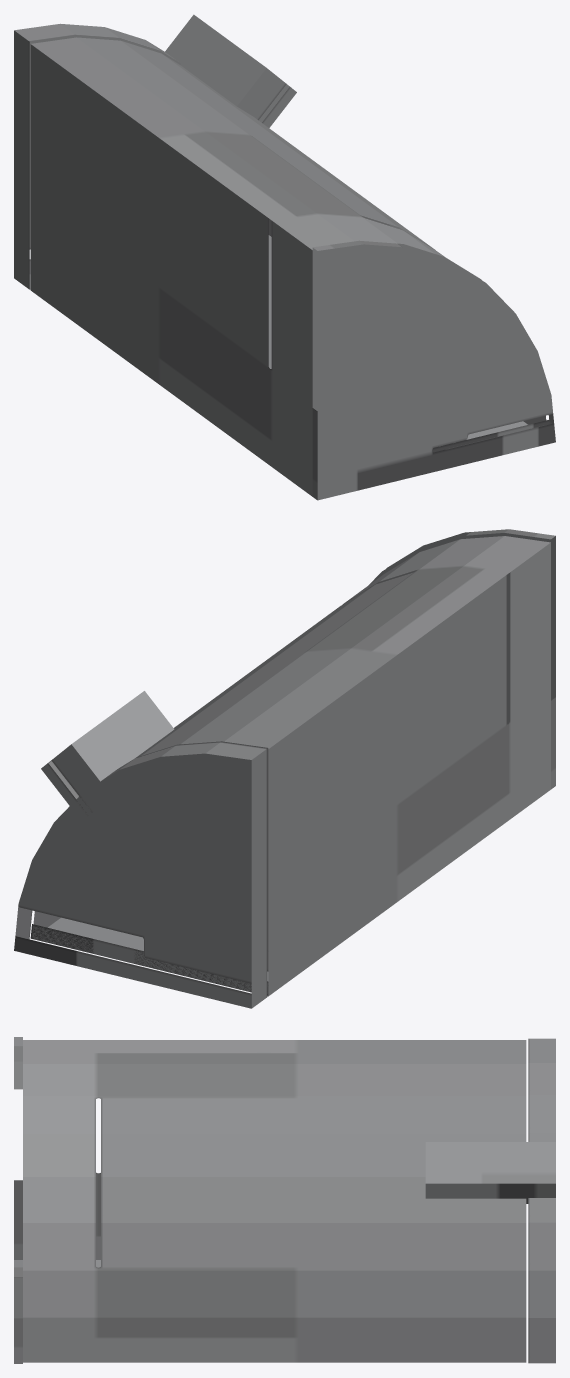
3 renders of one model, top to bottom at view 1: azimuth 30°, elevation 25°; view 2: azimuth 150°, elevation 25°; view 3: azimuth 270°, elevation 25°, orthographic. The views are drawn at different scales.
Bounding box in the file's own units: 0.83 × 0.83 × 1.83.
